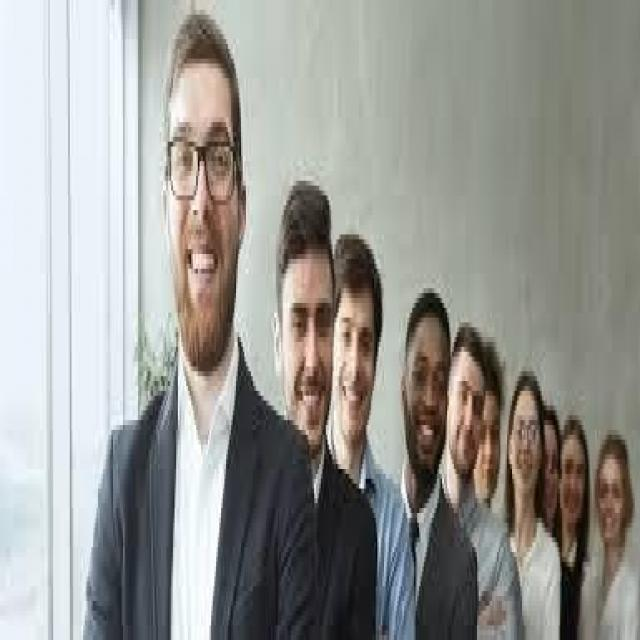person: (38, 10, 291, 635), (266, 127, 376, 635), (320, 210, 416, 635), (389, 264, 477, 635), (442, 293, 516, 635), (489, 332, 557, 601), (462, 328, 512, 576), (547, 386, 597, 625), (587, 406, 633, 630), (532, 376, 560, 611)
